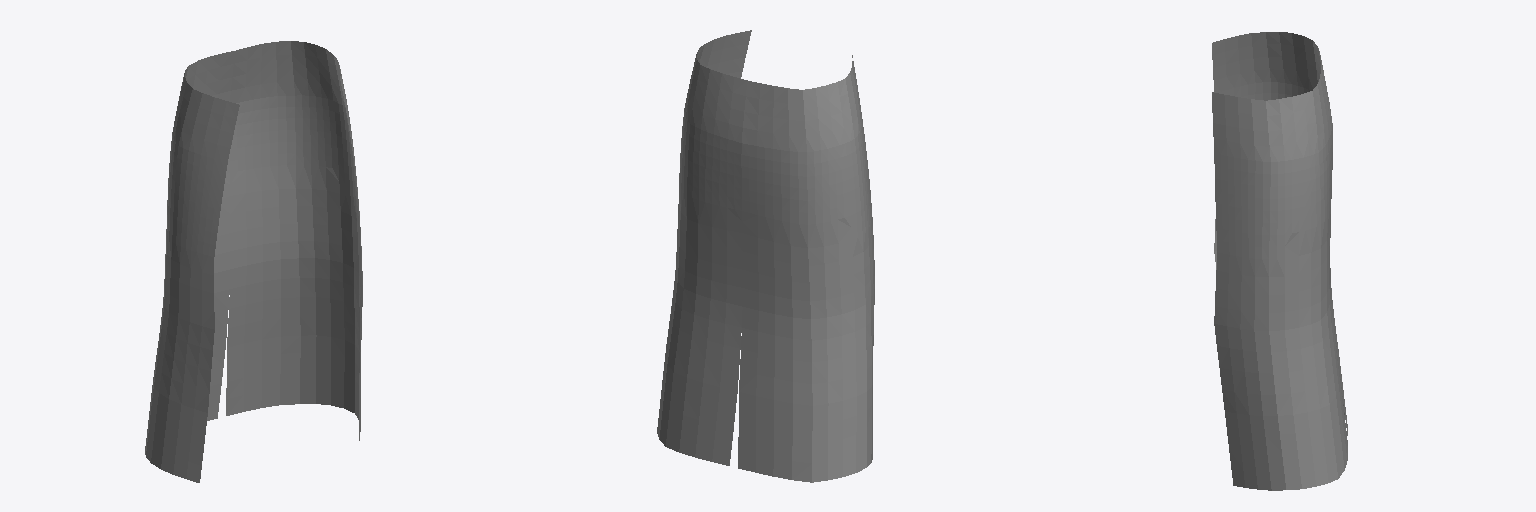
Rendered from cape.obj.
3 renders of one model, left to right at view 1: azimuth 30°, elevation 25°; view 2: azimuth 150°, elevation 25°; view 3: azimuth 270°, elevation 25°, orthographic.
Parts seen in each view (by area): view 1: Plane.007_Plane.015; view 2: Plane.007_Plane.015; view 3: Plane.007_Plane.015.
Boxes of the visible parts, <box> form: Plane.007_Plane.015: <box>145,41,362,482</box>; Plane.007_Plane.015: <box>657,30,874,482</box>; Plane.007_Plane.015: <box>1212,32,1347,490</box>.
Bounding box in the file's own units: 0.5516 × 0.9895 × 0.3205.